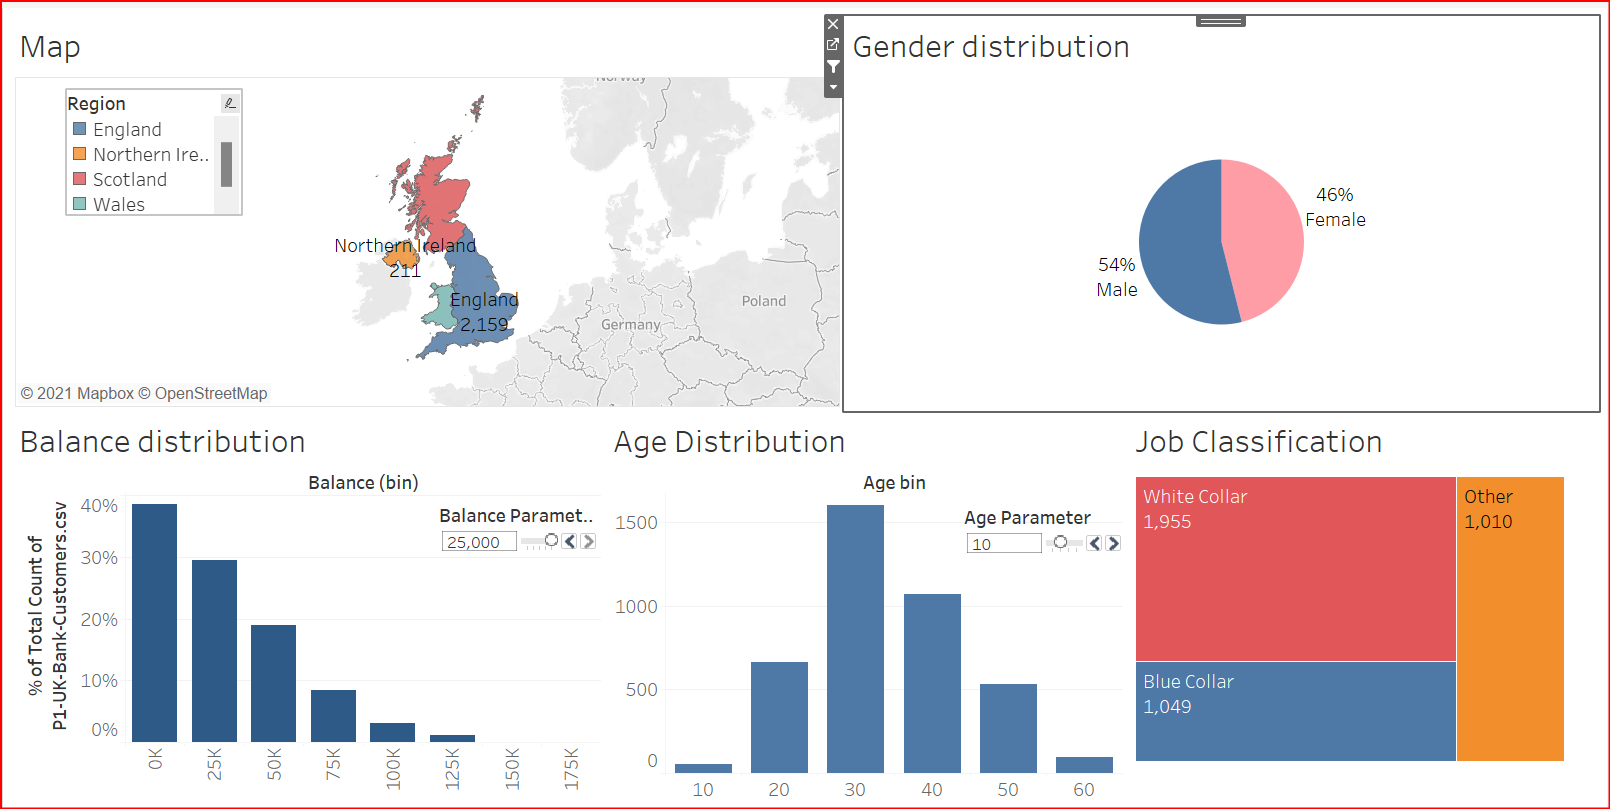

What the dashboard file says about the page in this screenshot:
{"tool":"tableau","page":{"name":"Dashboard 1","canvas":[1000,1000],"units":"permille","ordinal":0},"visuals":[{"type":"worksheet","title":"Map","mark":"Multipolygon","box":[5,9.9,519.3,490.1]},{"type":"worksheet","title":"Gender distribution","mark":"Pie","box":[524.3,9.9,470.7,490.1]},{"type":"legend","title":"Map","param":"[federated.1140gni0qfmq9c1arc6ef1ieluay].[none:Region:nk]","box":[39.9,101.5,108.5,154]},{"type":"worksheet","title":"Balance distribution","mark":"Bar","rows":["P1-UK-Bank-Customers.csv_8E0C00F94F764FEC8DB553223FAFC5C1"],"cols":["Balance (bin)"],"box":[5,500,370.3,490.1]},{"type":"worksheet","title":"Age Distribution","mark":"Bar","rows":["P1-UK-Bank-Customers.csv_8E0C00F94F764FEC8DB553223FAFC5C1"],"cols":["Age (bin)"],"box":[375.3,500,325.4,490.1]},{"type":"worksheet","title":"Job Classification","mark":"Automatic","box":[700.7,500,294.3,490.1]},{"type":"parameter","param":"[Parameters].[Balance Parameter]","box":[275.6,503.7,99.8,91.7]},{"type":"parameter","param":"[Parameters].[Age Parameter]","box":[594.8,518.3,99.8,91.7]}]}

Visuals, with their boxes on the dashboard's canvas, which has no fixed pixel size, in thousandths of its width and height (x1, y1, x2, y2). These are canvas units, not pixel positions in the 1610x809 screenshot, which may show the page scaled, cropped or inside an application window:
"Map" worksheet (Multipolygon marks): 5/10/524/500
"Gender distribution" worksheet (Pie marks): 524/10/995/500
"Map" legend: 40/102/148/256
"Balance distribution" worksheet (Bar marks): 5/500/375/990
"Age Distribution" worksheet (Bar marks): 375/500/701/990
"Job Classification" worksheet: 701/500/995/990
parameter: 276/504/375/595
parameter: 595/518/695/610
